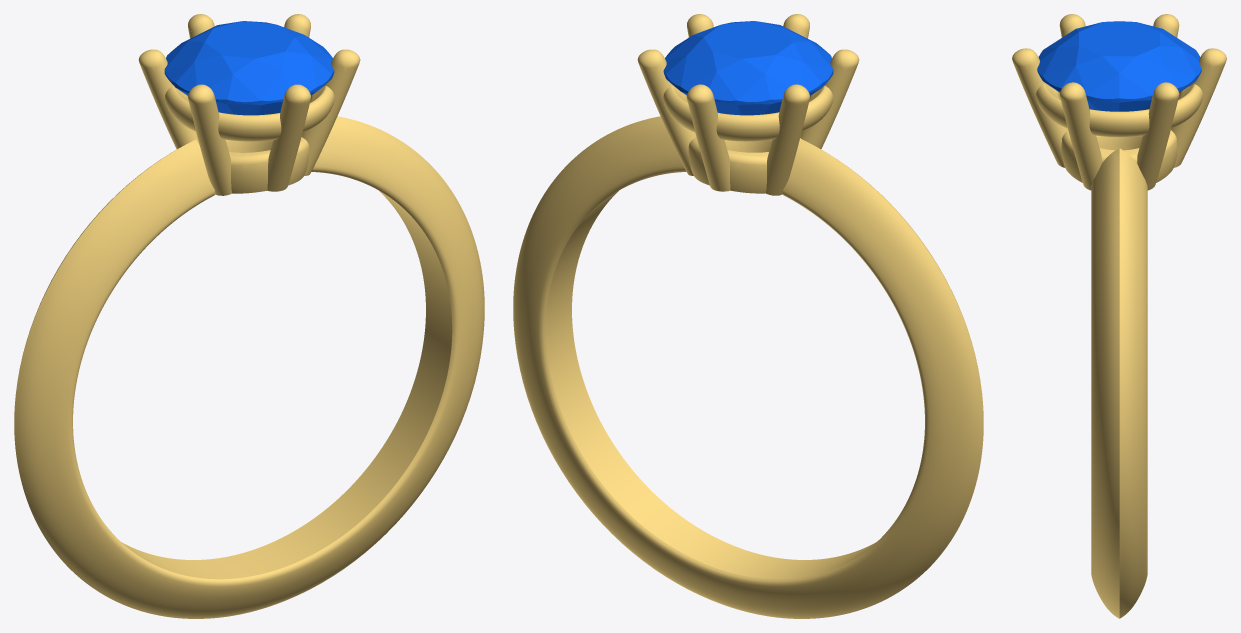
Rendered from bluesapphire-round-yellowgold-6prong-knifeedge-nosidestones.glb.
3 views of the same model, side by side, from view 1: azimuth 30°, elevation 25°; view 2: azimuth 150°, elevation 25°; view 3: azimuth 270°, elevation 25° (orthographic). The views are drawn at different scales.
Visible parts, largest first — view 1: metal, stone; view 2: metal, stone; view 3: metal, stone.
Boxes of the visible parts, bbox=[...] form: metal: bbox=[14, 14, 484, 618]; stone: bbox=[164, 21, 334, 115]; metal: bbox=[513, 14, 983, 618]; stone: bbox=[663, 21, 833, 115]; metal: bbox=[1012, 14, 1226, 618]; stone: bbox=[1037, 21, 1201, 111].
Bounding box in the file's own units: 20.48 × 23.81 × 8.35.
